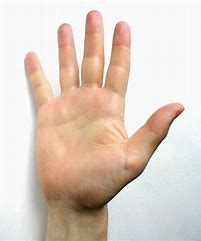palm: (24, 8, 185, 211)
